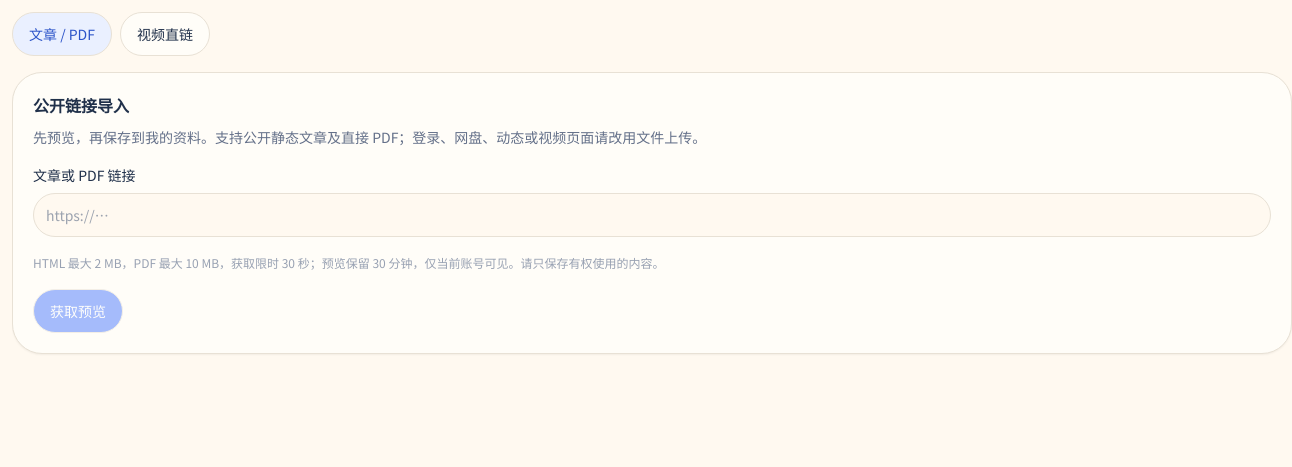
it: cancels an in-flight preview and ignores its late response
In the field named "文章或PDF链接": (652, 215) [33,193,1271,237], type "https://example.org/"
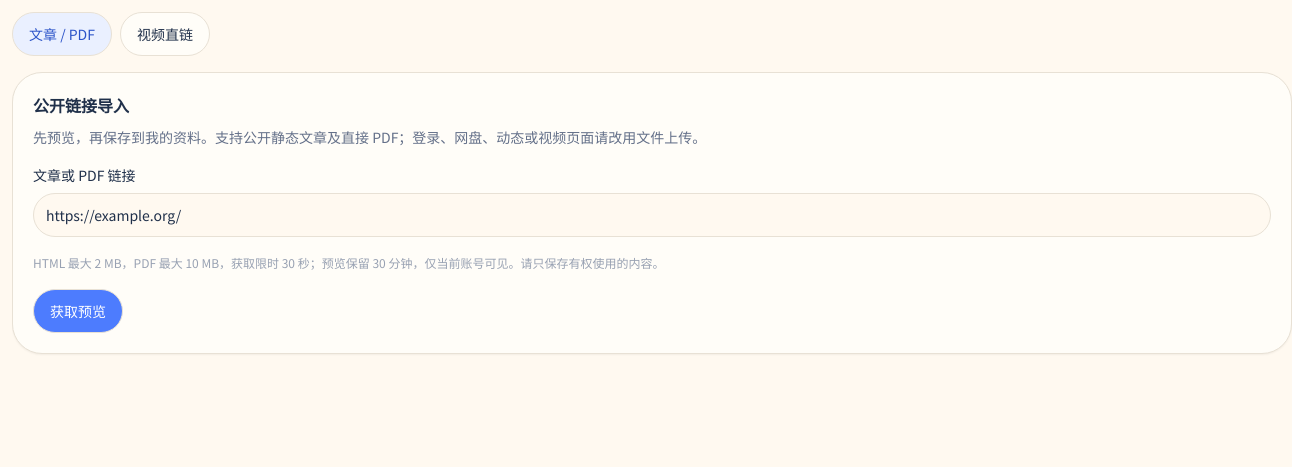
Click the button "获取预览": (78, 311) [33,289,123,333]
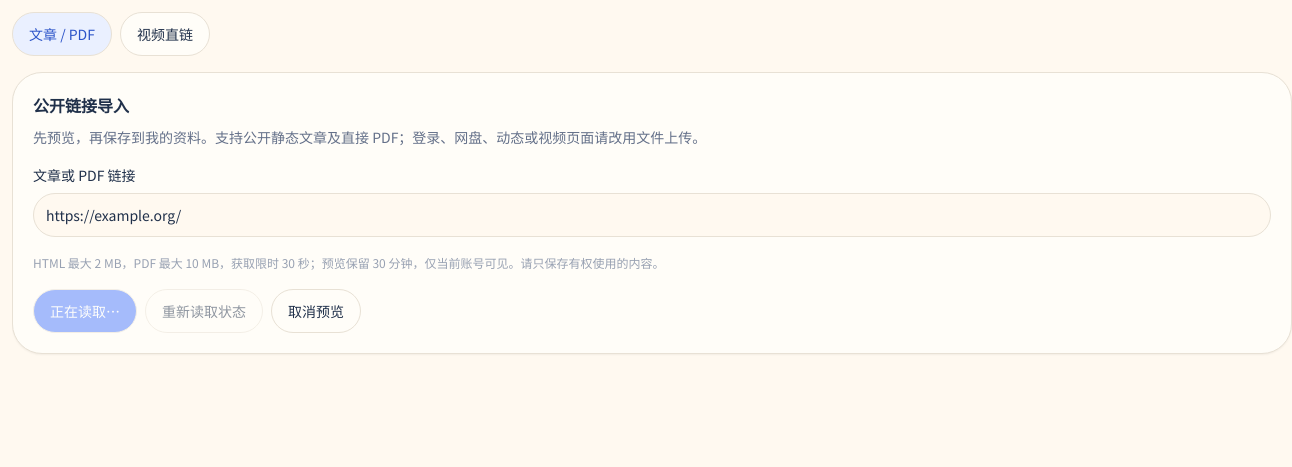
Click the button "取消预览": (316, 311) [271,289,361,333]
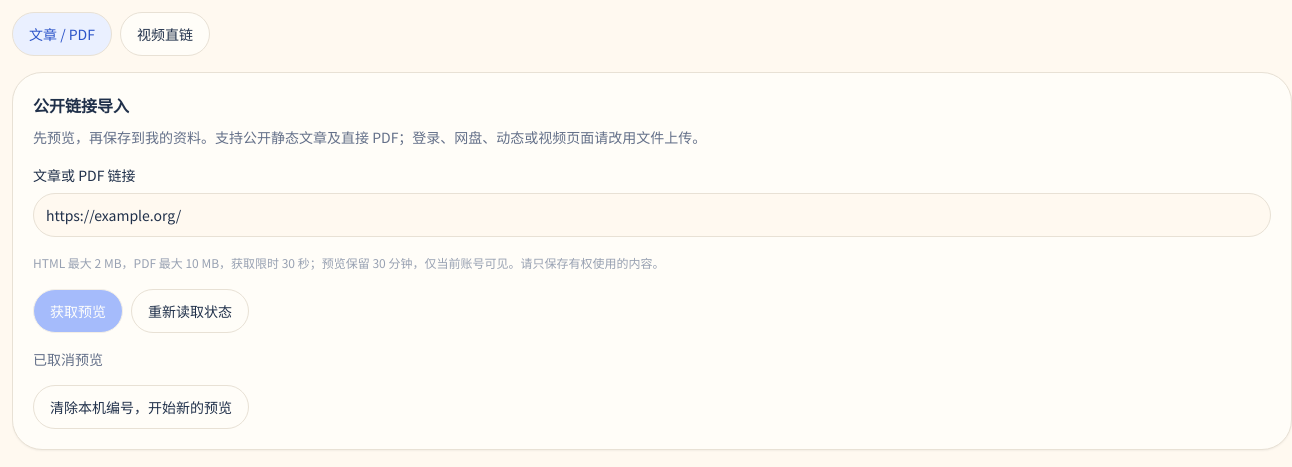
Now the text "已取消预览" is shown, box [33,349,103,369]
